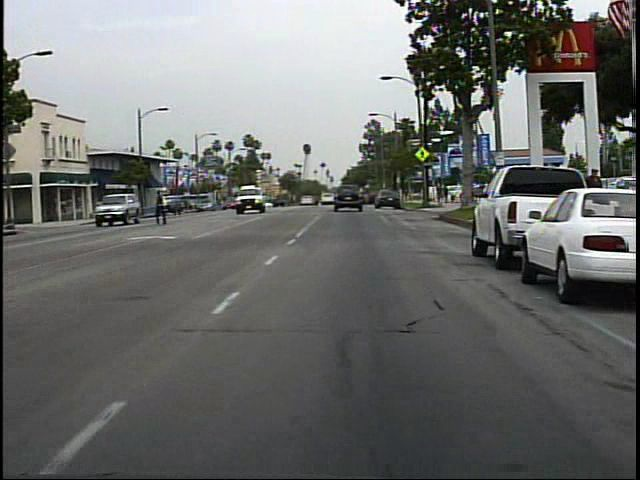person: (577, 164, 605, 227), (150, 186, 176, 228)
